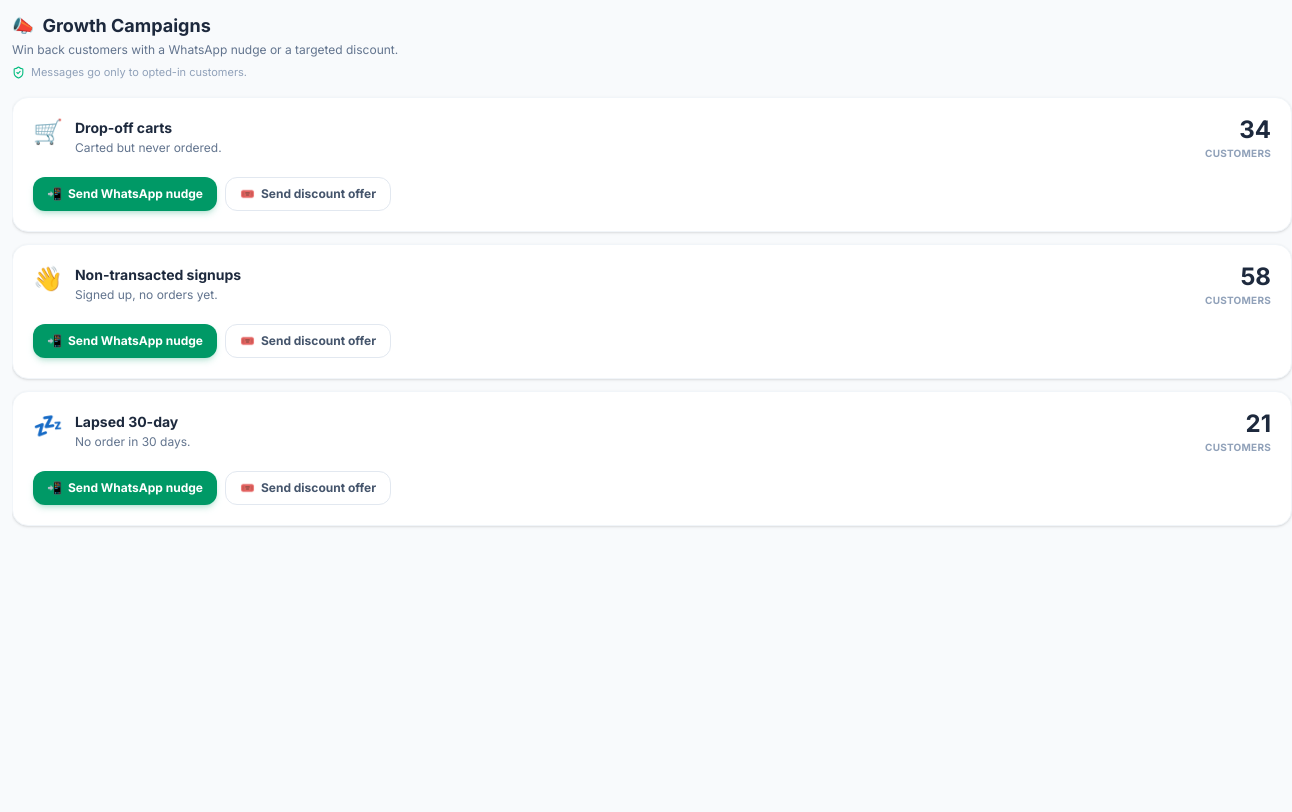
Test: Campaigns Component › disables the discount submit while the form is invalid
Expected: the heading "Drop-off carts" is shown, top-left (75, 118), bottom-right (172, 136)
Click the button "🎟️ Send discount offer" below "Carted but never ordered." at (308, 194), box top-left (225, 176), bottom-right (391, 210)
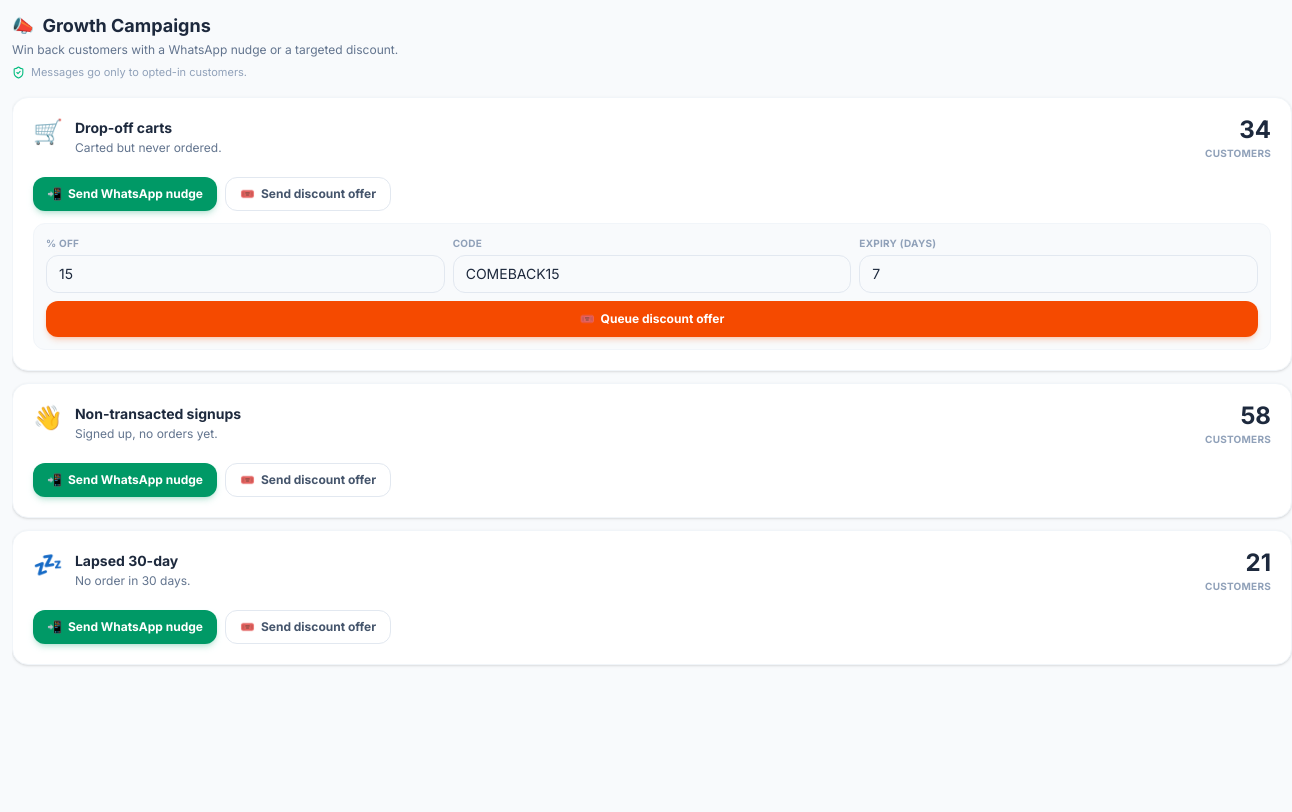
Replace the text in the number field labelled "% off" with "0" at (245, 274), box top-left (46, 254), bottom-right (445, 292)
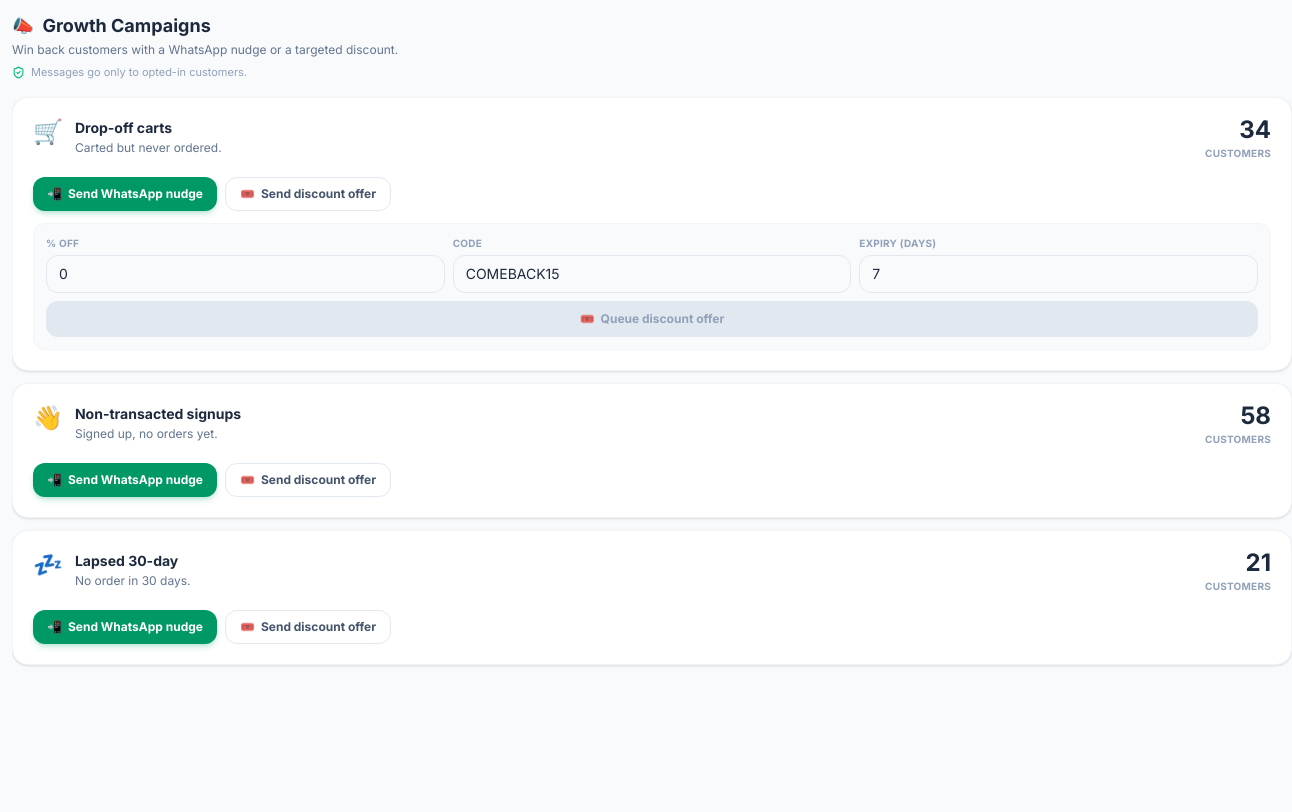
Result: the button "🎟️ Queue discount offer" is disabled at top-left (46, 300), bottom-right (1258, 336)
